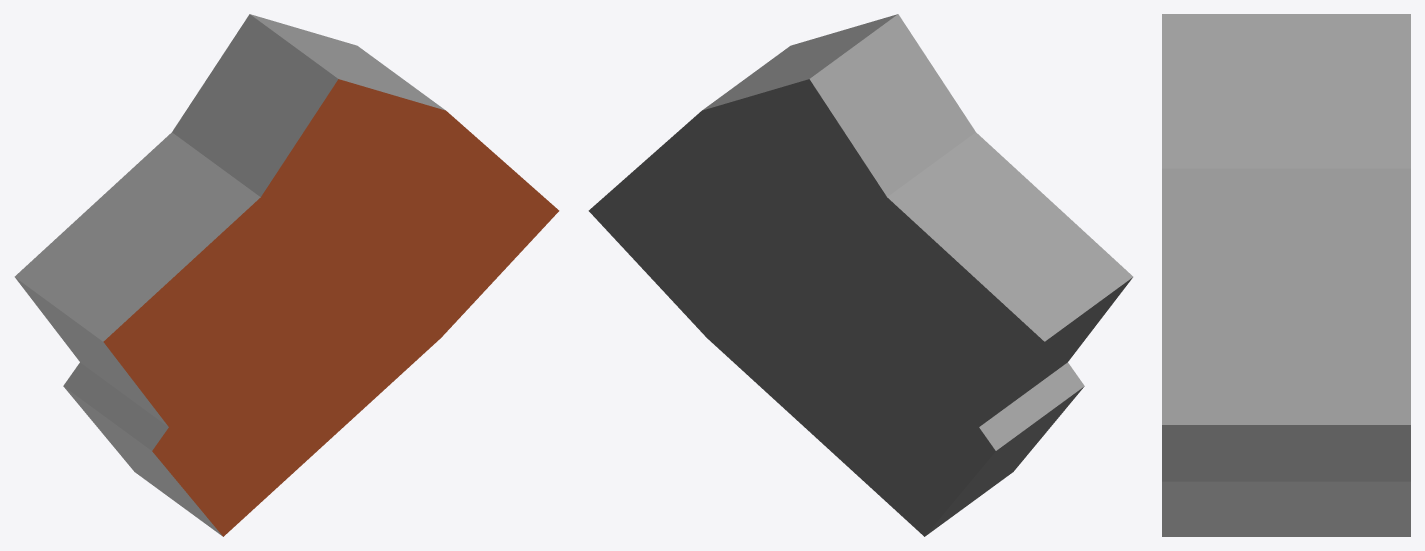
Rendered from construction_0488_assumed_A_Casa_h6m.obj.
The picture shows the model from 3 angles, left to right: view 1: azimuth 30°, elevation 25°; view 2: azimuth 150°, elevation 25°; view 3: azimuth 270°, elevation 25°; orthographic projection. The views are drawn at different scales.
Visible parts, largest first — view 1: construction_0488_assumed_A_Casa; view 2: construction_0488_assumed_A_Casa; view 3: construction_0488_assumed_A_Casa.
Boxes of the visible parts, x1,y1,x2,y2 form: construction_0488_assumed_A_Casa: (14,14,559,536); construction_0488_assumed_A_Casa: (588,14,1133,536); construction_0488_assumed_A_Casa: (1162,14,1410,536).
Size of the model in its own units: 17.78 by 16.01 by 6.
